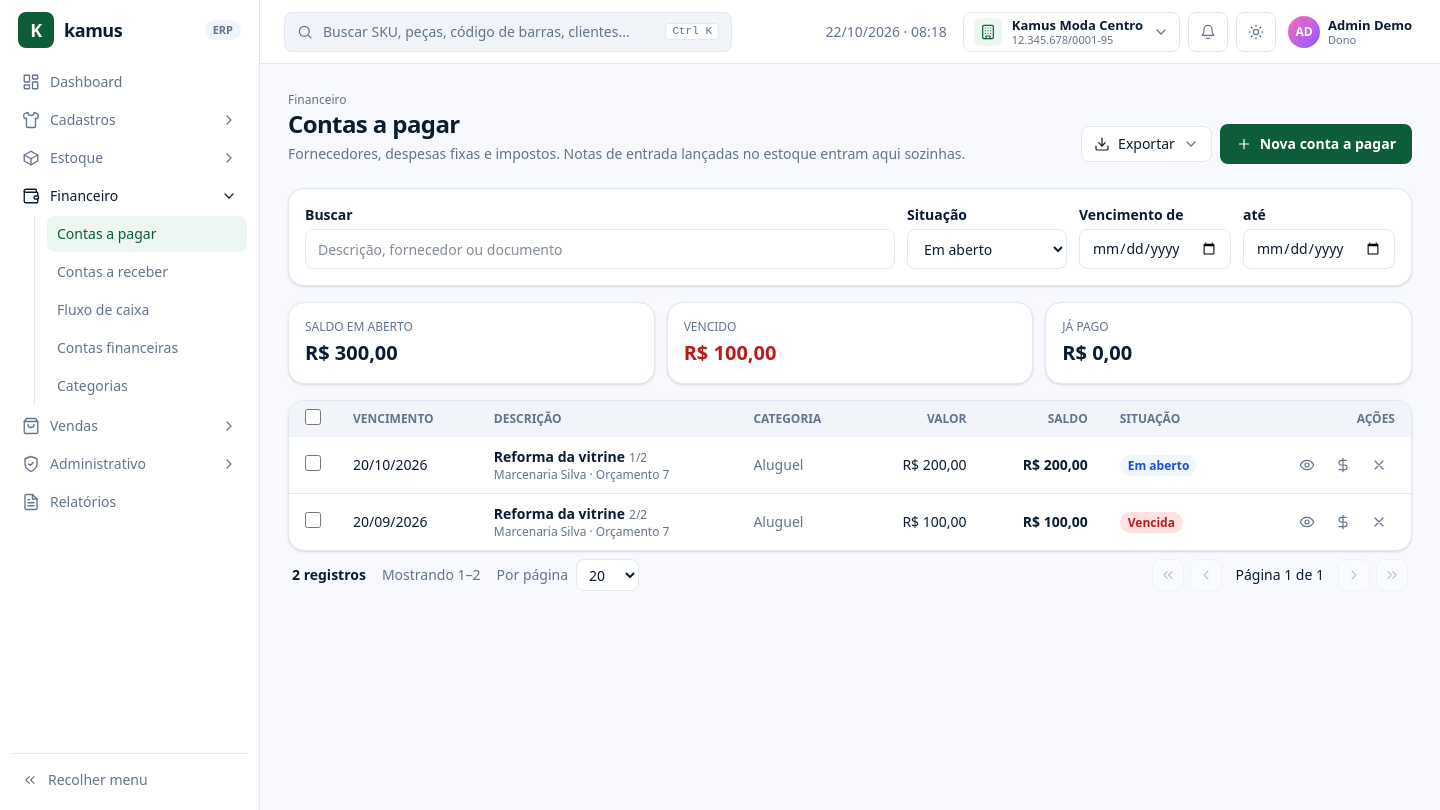
Test case: Financeiro → Contas a pagar › ação da linha: paga parcialmente com juros e mostra o total
Step 1. Click the button named "Pagar Reforma da vitrine 1/2" → {"x": 1343, "y": 465}, box [1327, 449, 1359, 481]
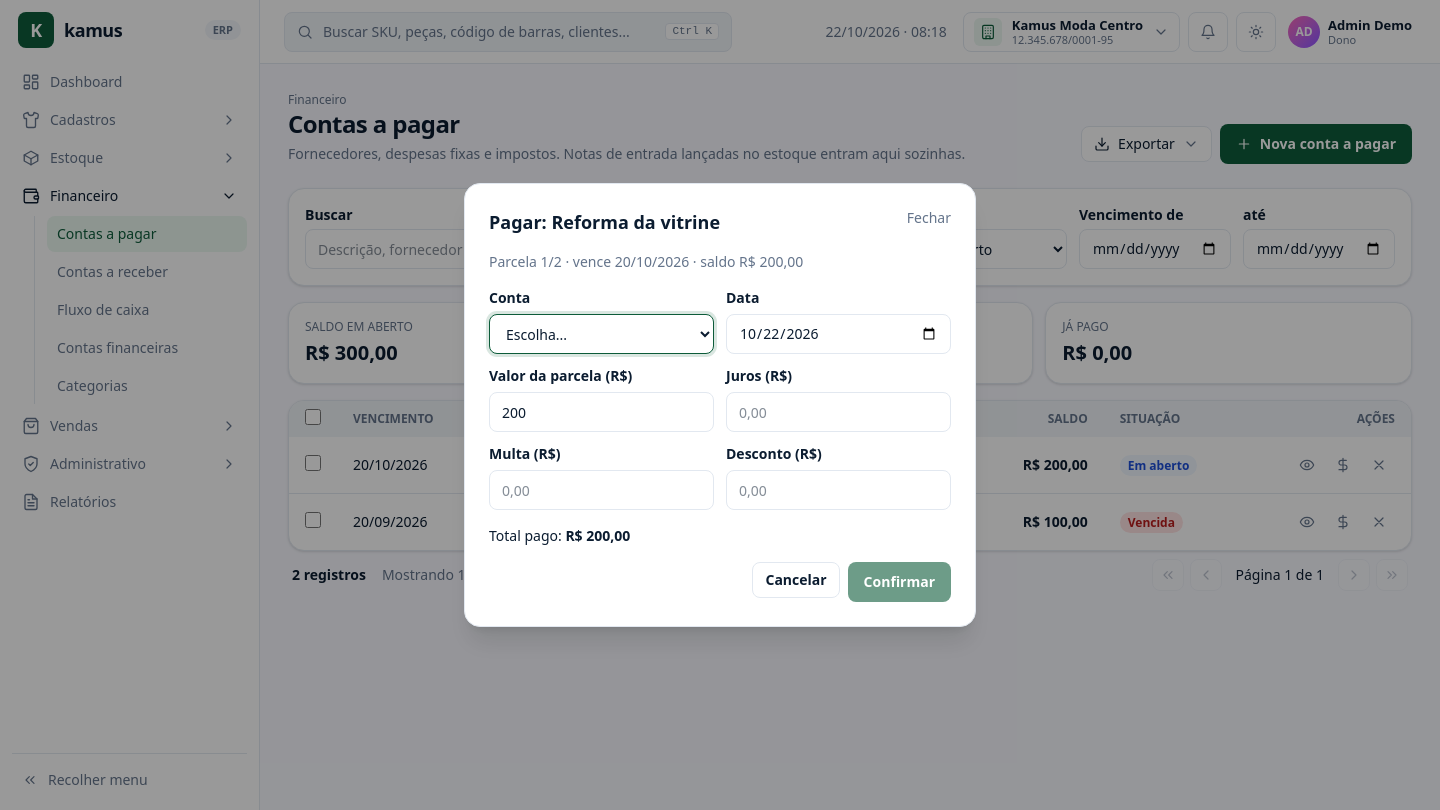
Step 2. Select "Caixa da loja" in the dropdown labelled "Conta" → {"x": 602, "y": 334}, box [489, 314, 714, 354]
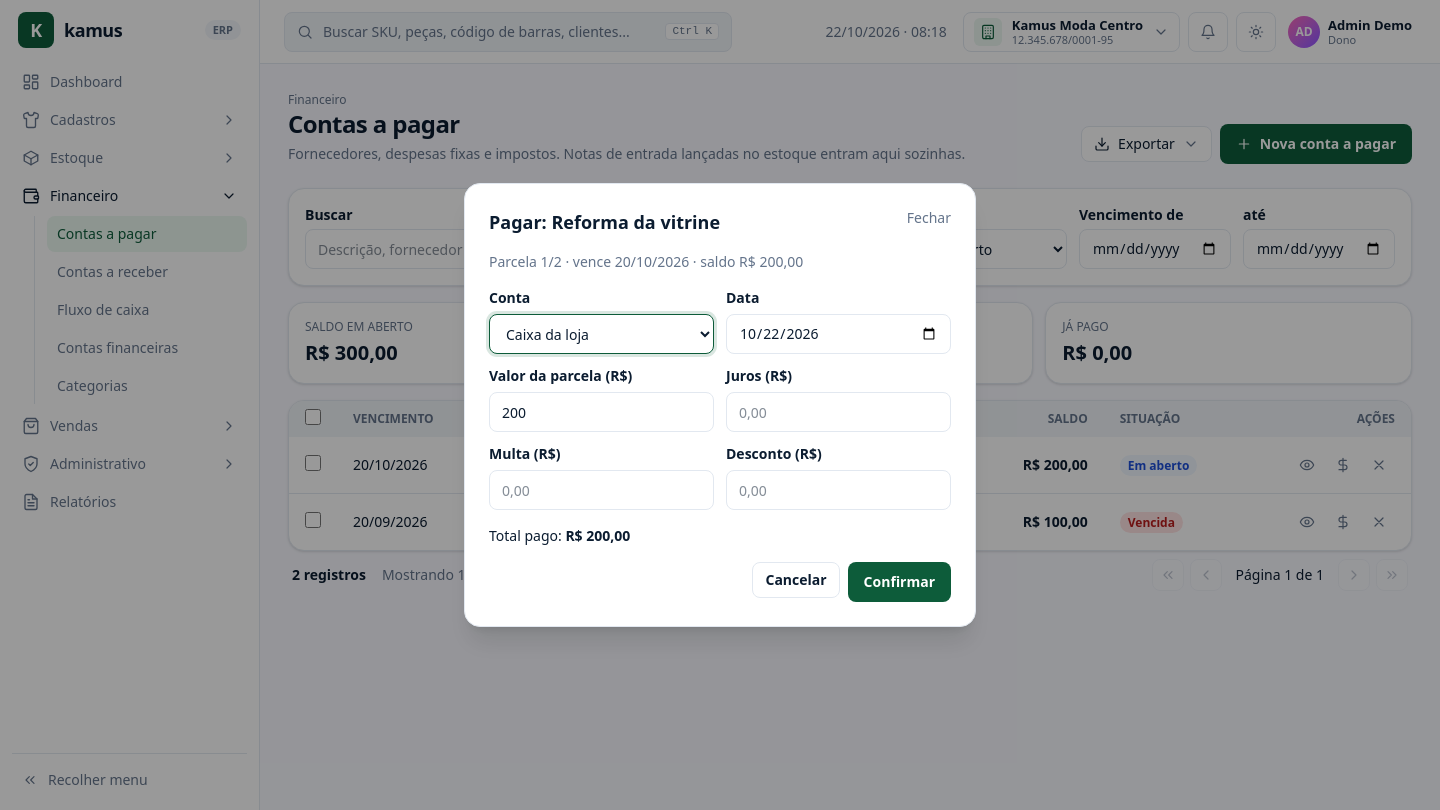
Step 3. Replace the text in the field labelled "Valor da parcela (R$)" with "80" → {"x": 602, "y": 412}, box [489, 392, 714, 432]
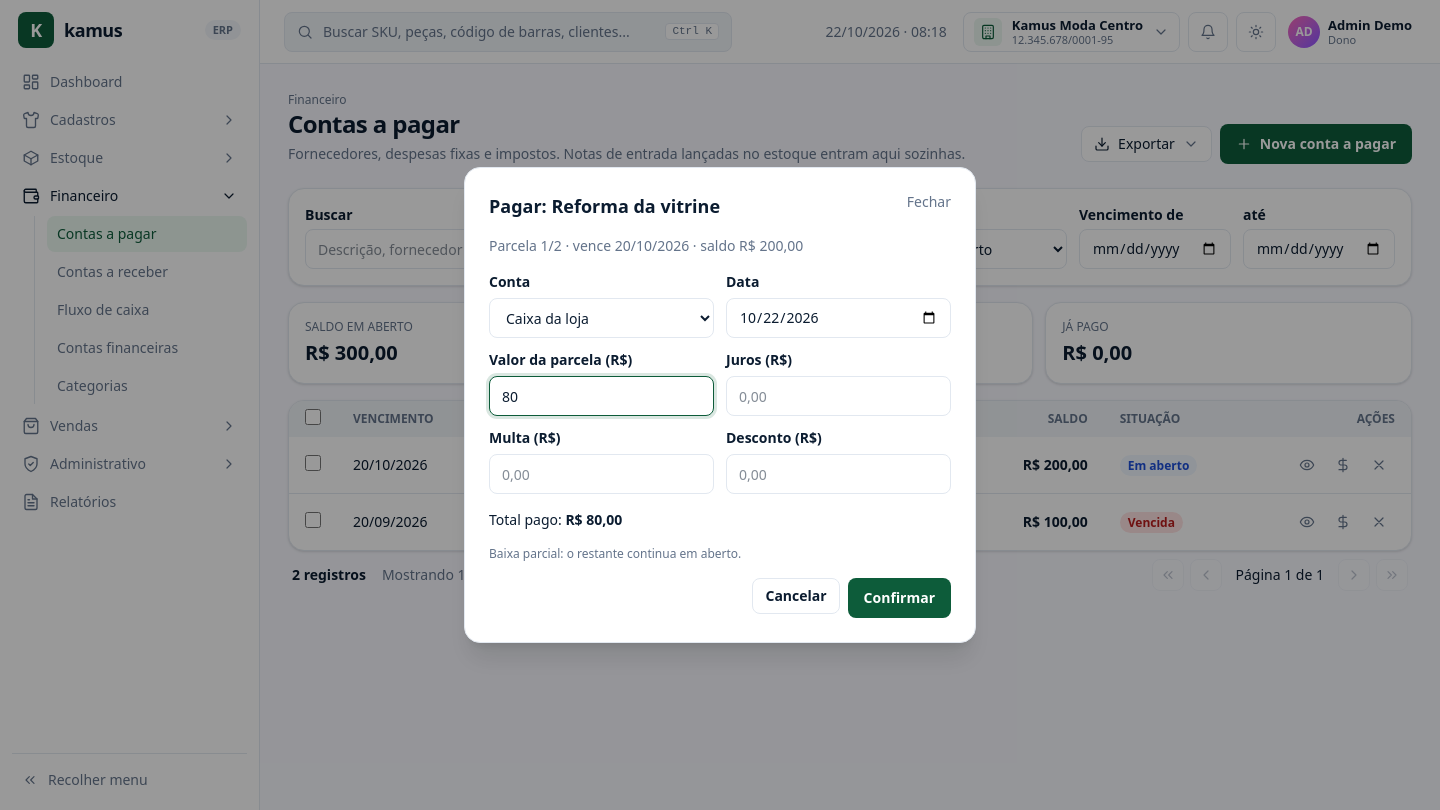
Step 4. Type "5" into the field labelled "Juros (R$)" → {"x": 838, "y": 396}, box [726, 376, 951, 416]
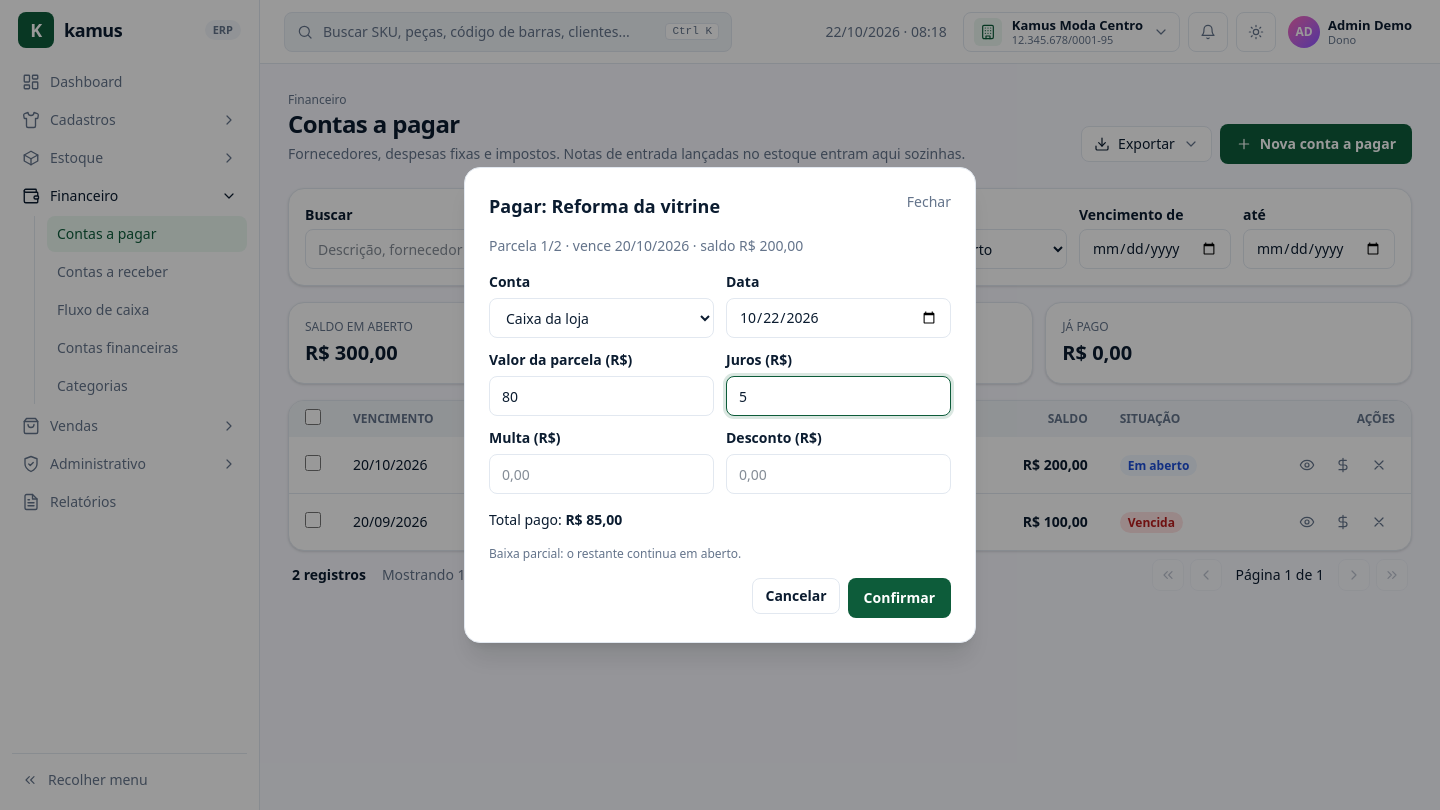
Check: the text "Baixa parcial: o restante continua em aberto." is shown, box [489, 545, 741, 562]
Check: the text "R$ 85,00" is shown, box [565, 510, 622, 529]
Step 5. Click the button "Confirmar" → {"x": 899, "y": 598}, box [848, 578, 951, 618]
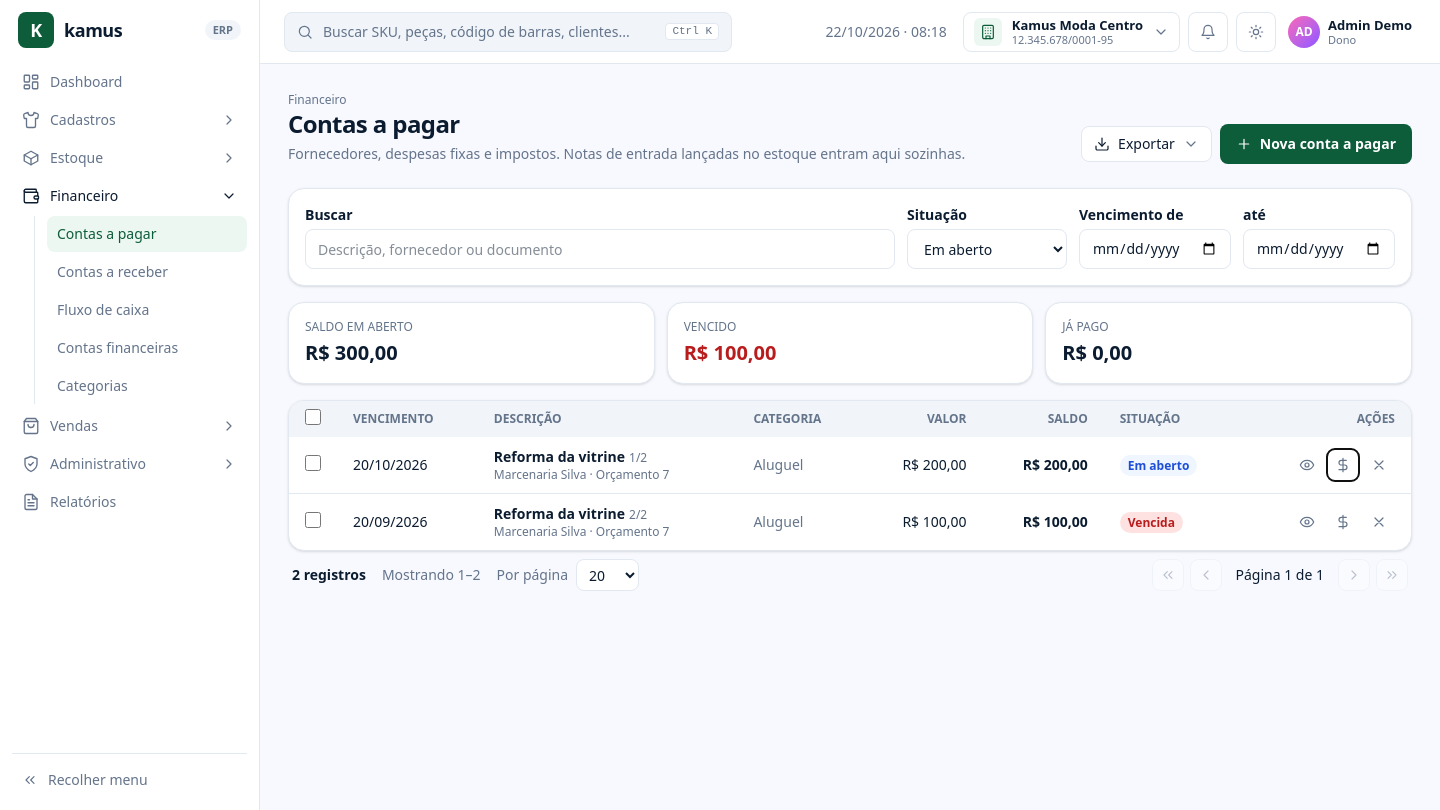
Check: the dialog is gone
